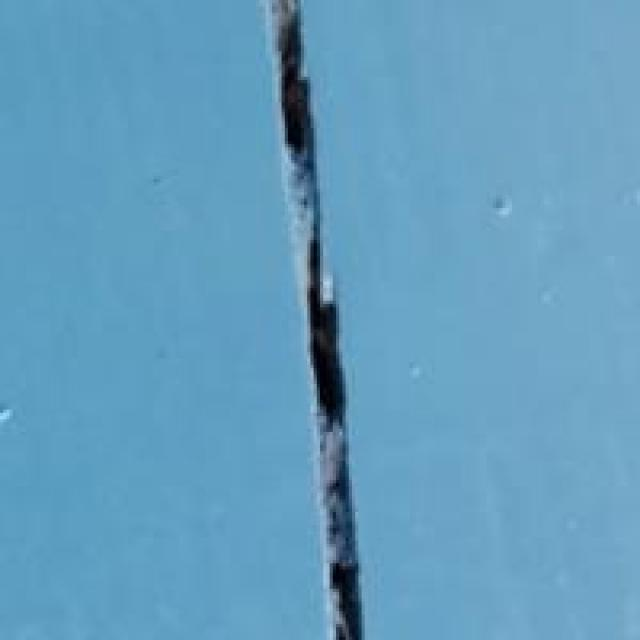crack: (198, 0, 468, 637)
